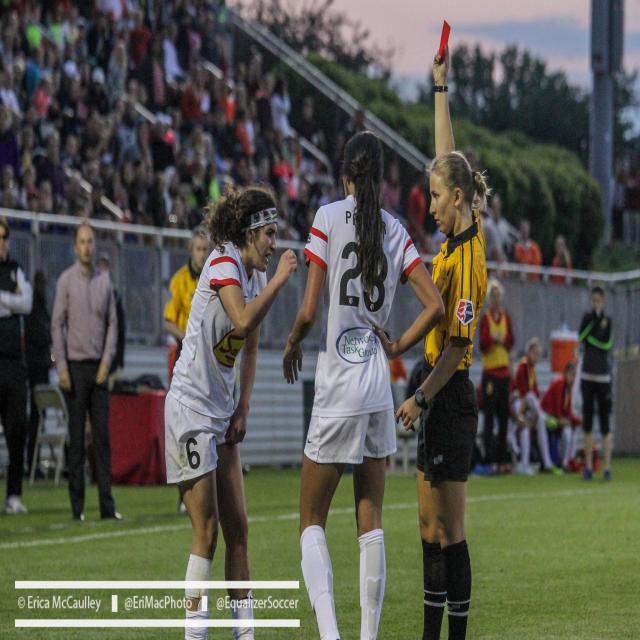red-card: (418, 10, 460, 95)
